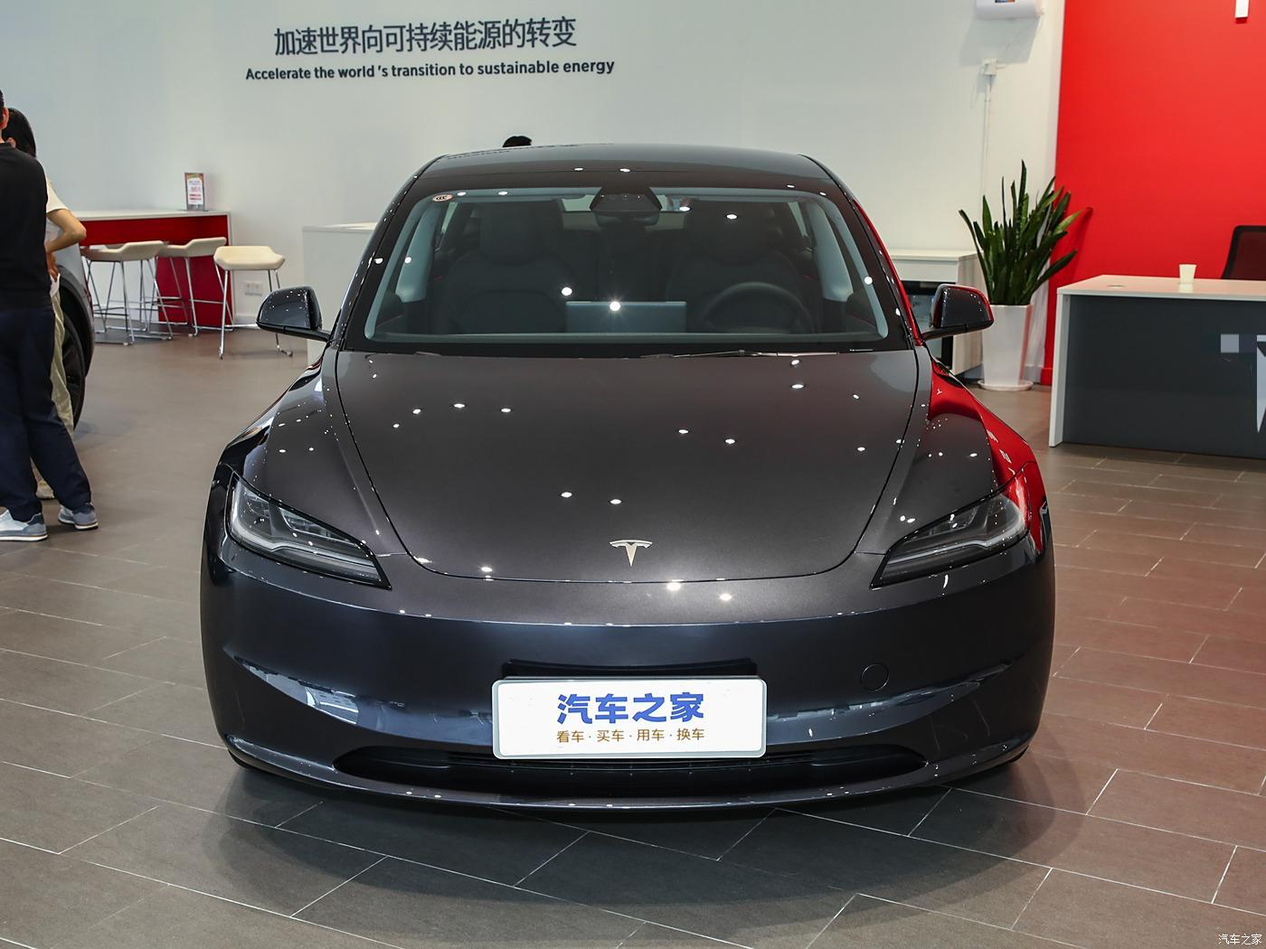Tesla: (609, 538, 654, 569)
